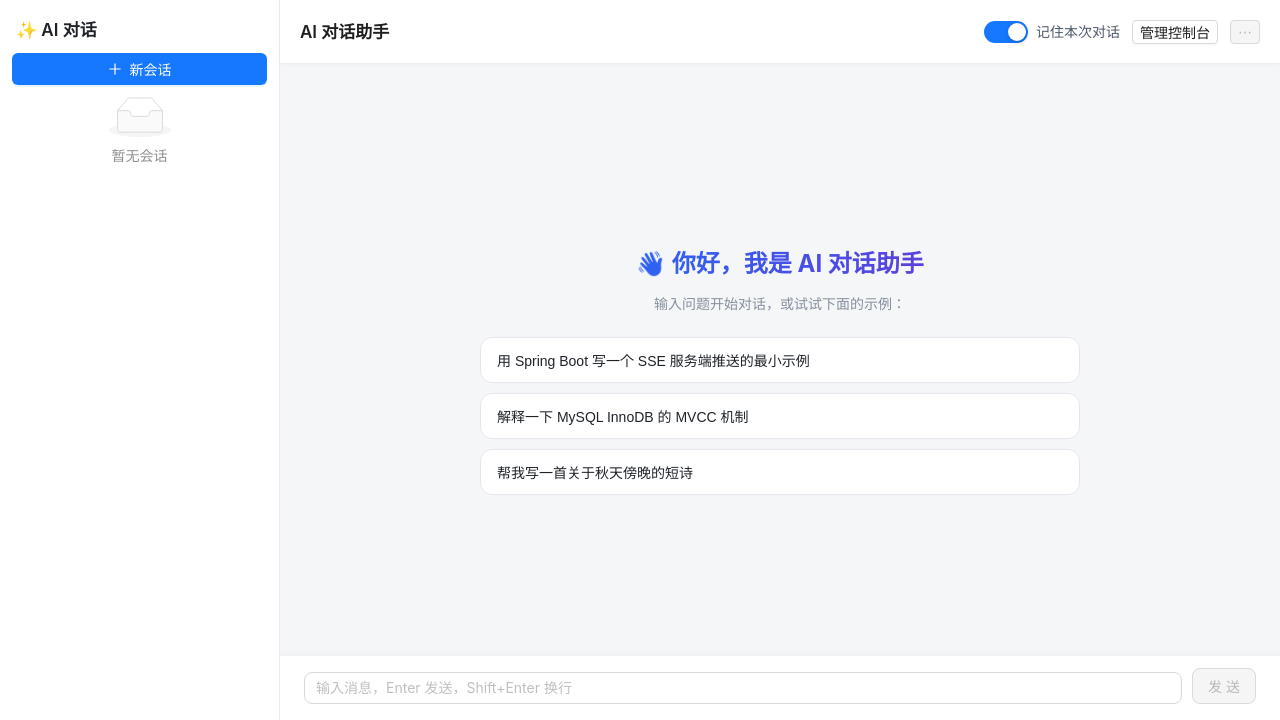
Root（对话页 / 管理控制台切换） › 点入口 → hash=#/admin、控制台挂载、对话页仅 CSS 隐藏不卸载（AC-1）
Click the button "管理控制台": coordinates (1175, 32) [1132, 20, 1218, 44]
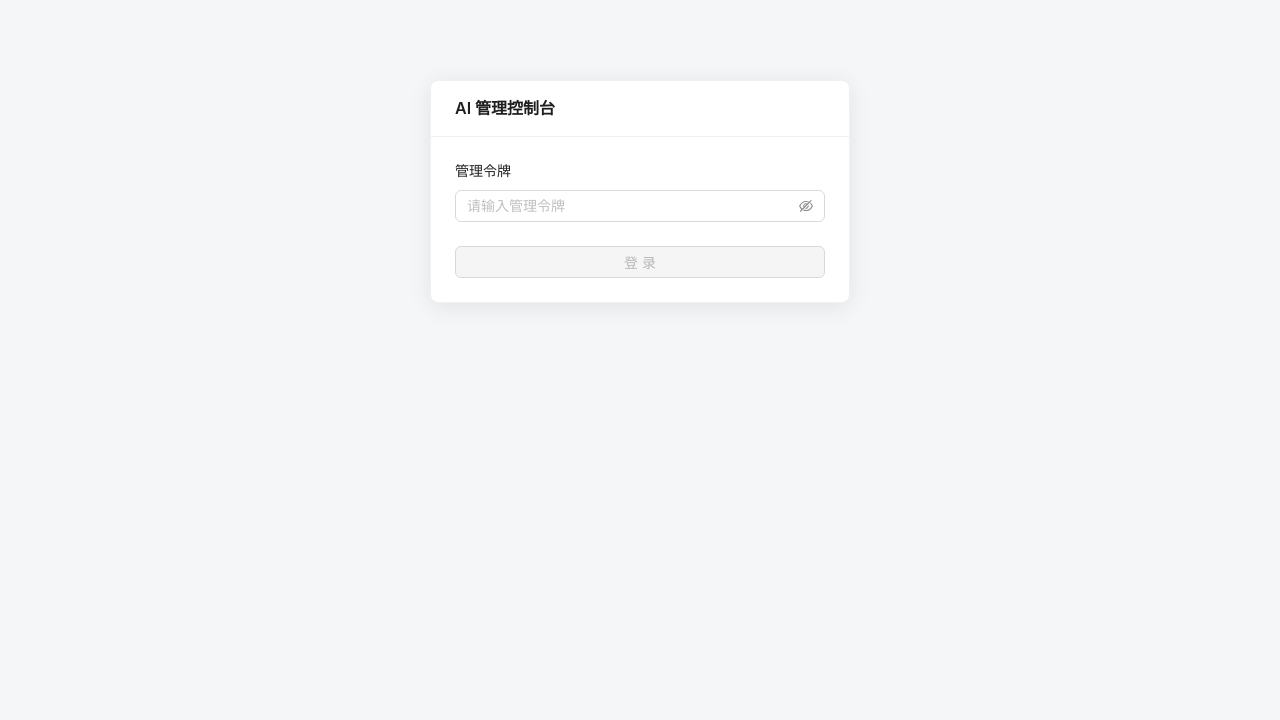
Expected: the element with test id "admin-console" is shown
